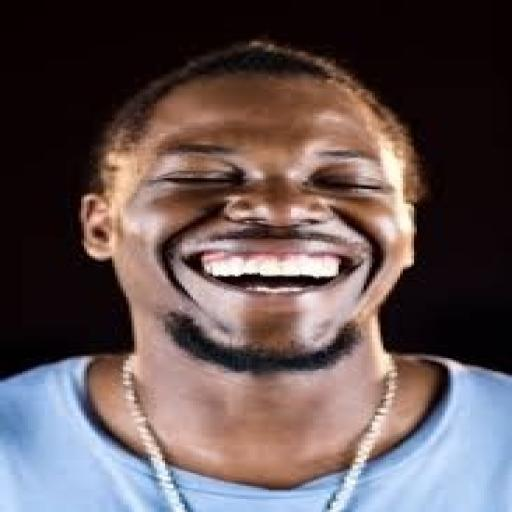laughing: (0, 34, 509, 510)
